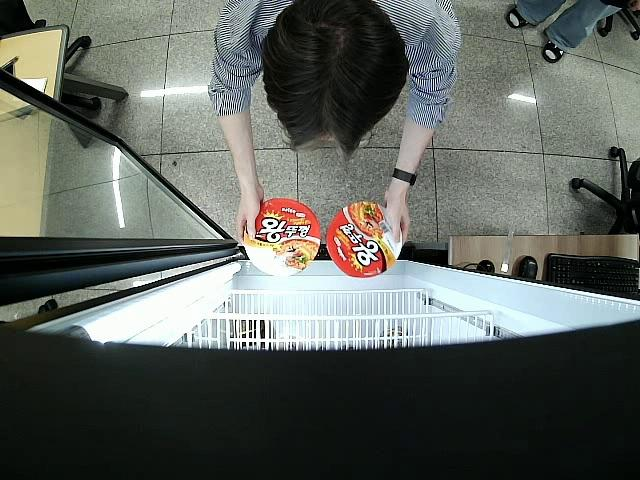00_hand: (232, 180, 263, 243), (383, 195, 412, 250)
10_wangTtukkeong: (243, 199, 320, 277), (327, 202, 402, 279)
